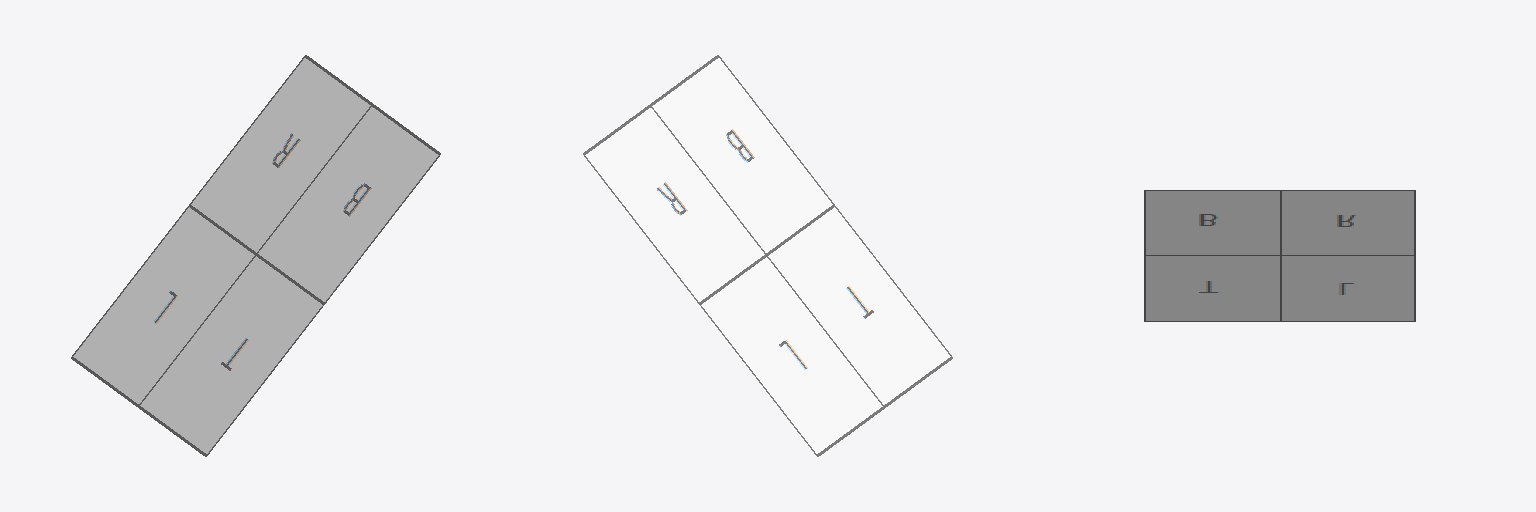
3 renders of one model, left to right at view 1: azimuth 30°, elevation 25°; view 2: azimuth 150°, elevation 25°; view 3: azimuth 270°, elevation 25°, orthographic.
Visible parts, largest first — view 1: Cube_Cube.002; view 2: Cube_Cube.002; view 3: Cube_Cube.002.
Part boxes in pixels (x1,y1,x2,y2): Cube_Cube.002: (71, 55, 440, 456); Cube_Cube.002: (583, 55, 952, 456); Cube_Cube.002: (1144, 190, 1415, 321).
Size of the model in its own units: 2 by 2 by 2.
1 materials, 1 textured.